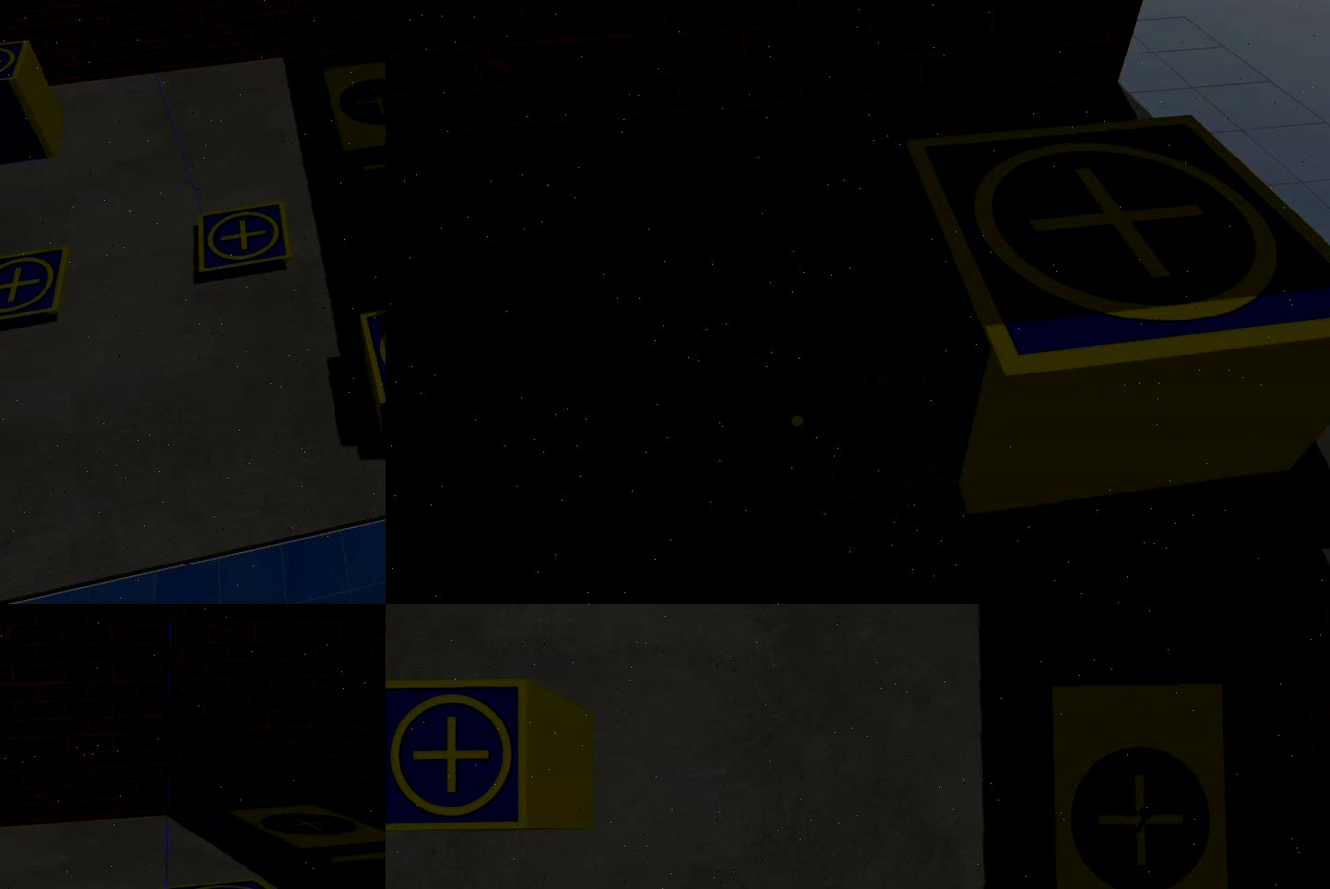large_base: (1006, 634, 1278, 889), (194, 790, 386, 868), (303, 48, 386, 171)
small_base: (897, 116, 1330, 380), (386, 676, 530, 834), (194, 201, 294, 277), (1, 251, 70, 326), (1, 48, 32, 96)
